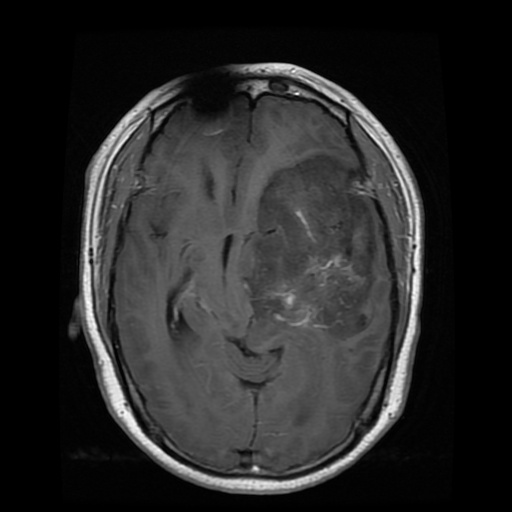glioma: (245, 156, 375, 337)
